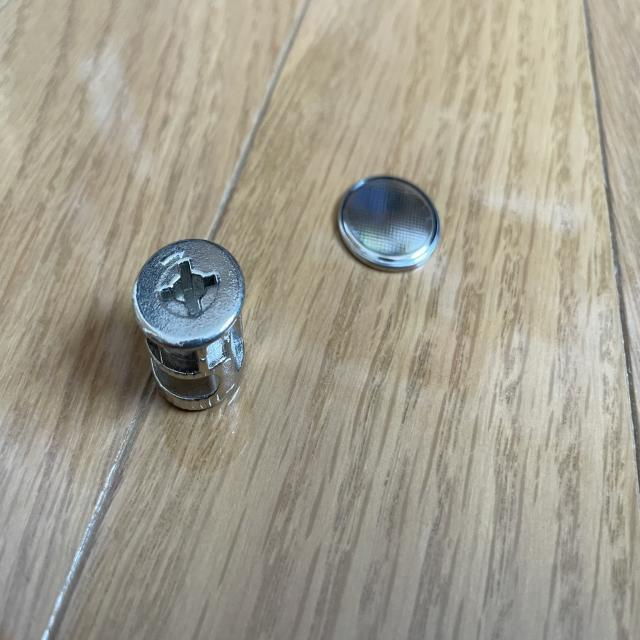COIN: (338, 175, 440, 274)
